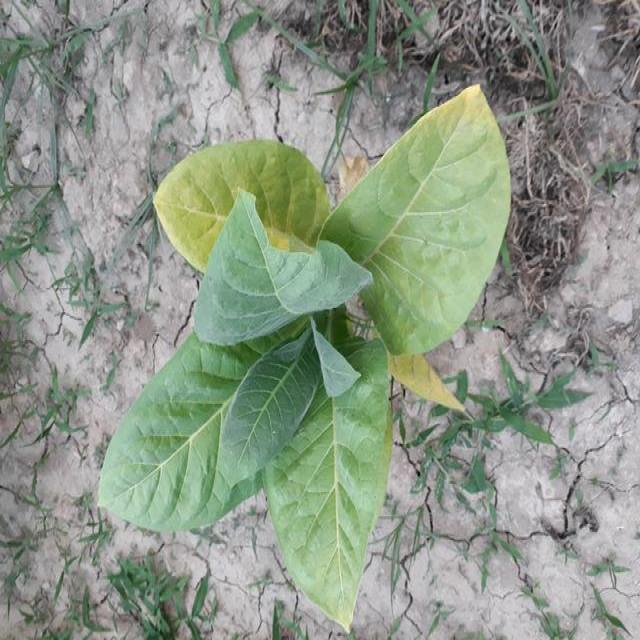crop: (104, 95, 514, 601)
